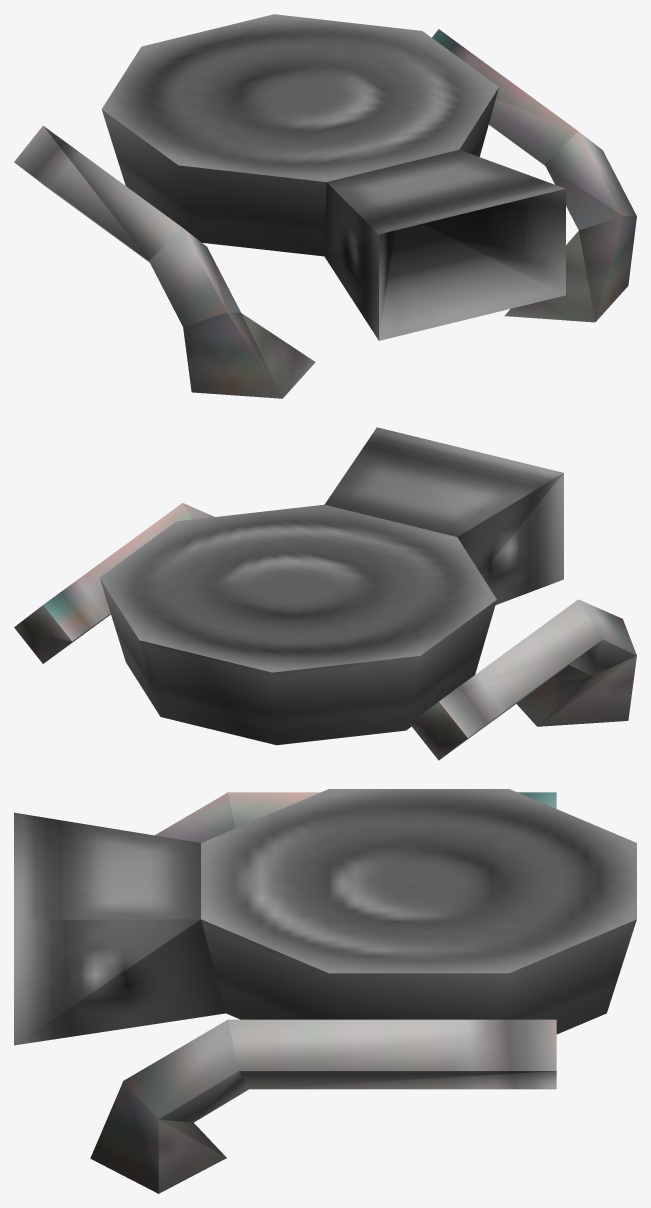
Rendered from acc_0.glb.
3 renders of one model, top to bottom at view 1: azimuth 30°, elevation 25°; view 2: azimuth 150°, elevation 25°; view 3: azimuth 270°, elevation 25°, orthographic. The views are drawn at different scales.
Parts seen in each view (by area): view 1: vertex, pipes; view 2: vertex, pipes; view 3: vertex, pipes.
Part boxes in pixels (bbox=[...]): vertex: bbox=[101, 14, 565, 340]; pipes: bbox=[14, 29, 636, 398]; vertex: bbox=[99, 427, 563, 745]; pipes: bbox=[14, 503, 636, 760]; vertex: bbox=[14, 789, 636, 1045]; pipes: bbox=[90, 792, 556, 1193].
Bounding box in the file's own units: 0.8412 × 0.3056 × 0.8497.
2 materials, 2 textured.
